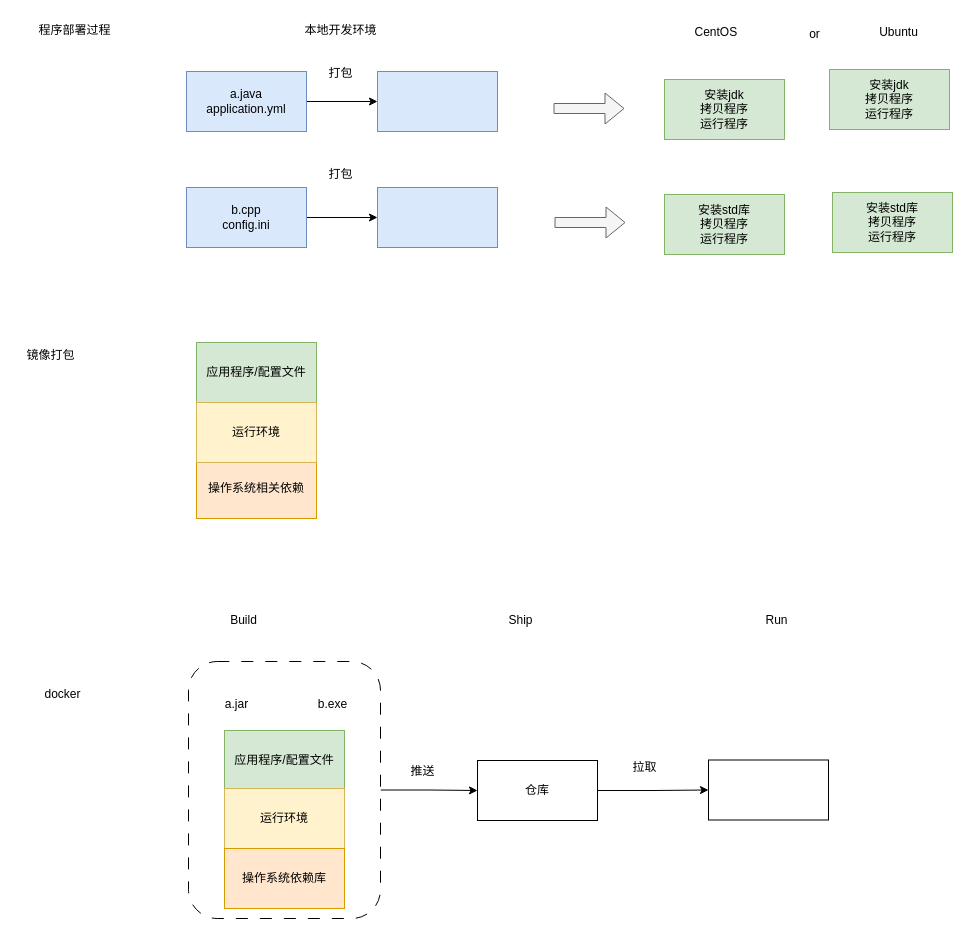
This 970x936 diagram has some shape labels left out. The shapes that lost their labels are listed below. From the top down, each one's centre as x and y in pixels, then its label:
At point 437,101: "app.jar application.yml".
At point 437,217: "b.exe config.ini".
At point 768,789: "在各种系统上容器化运行".
